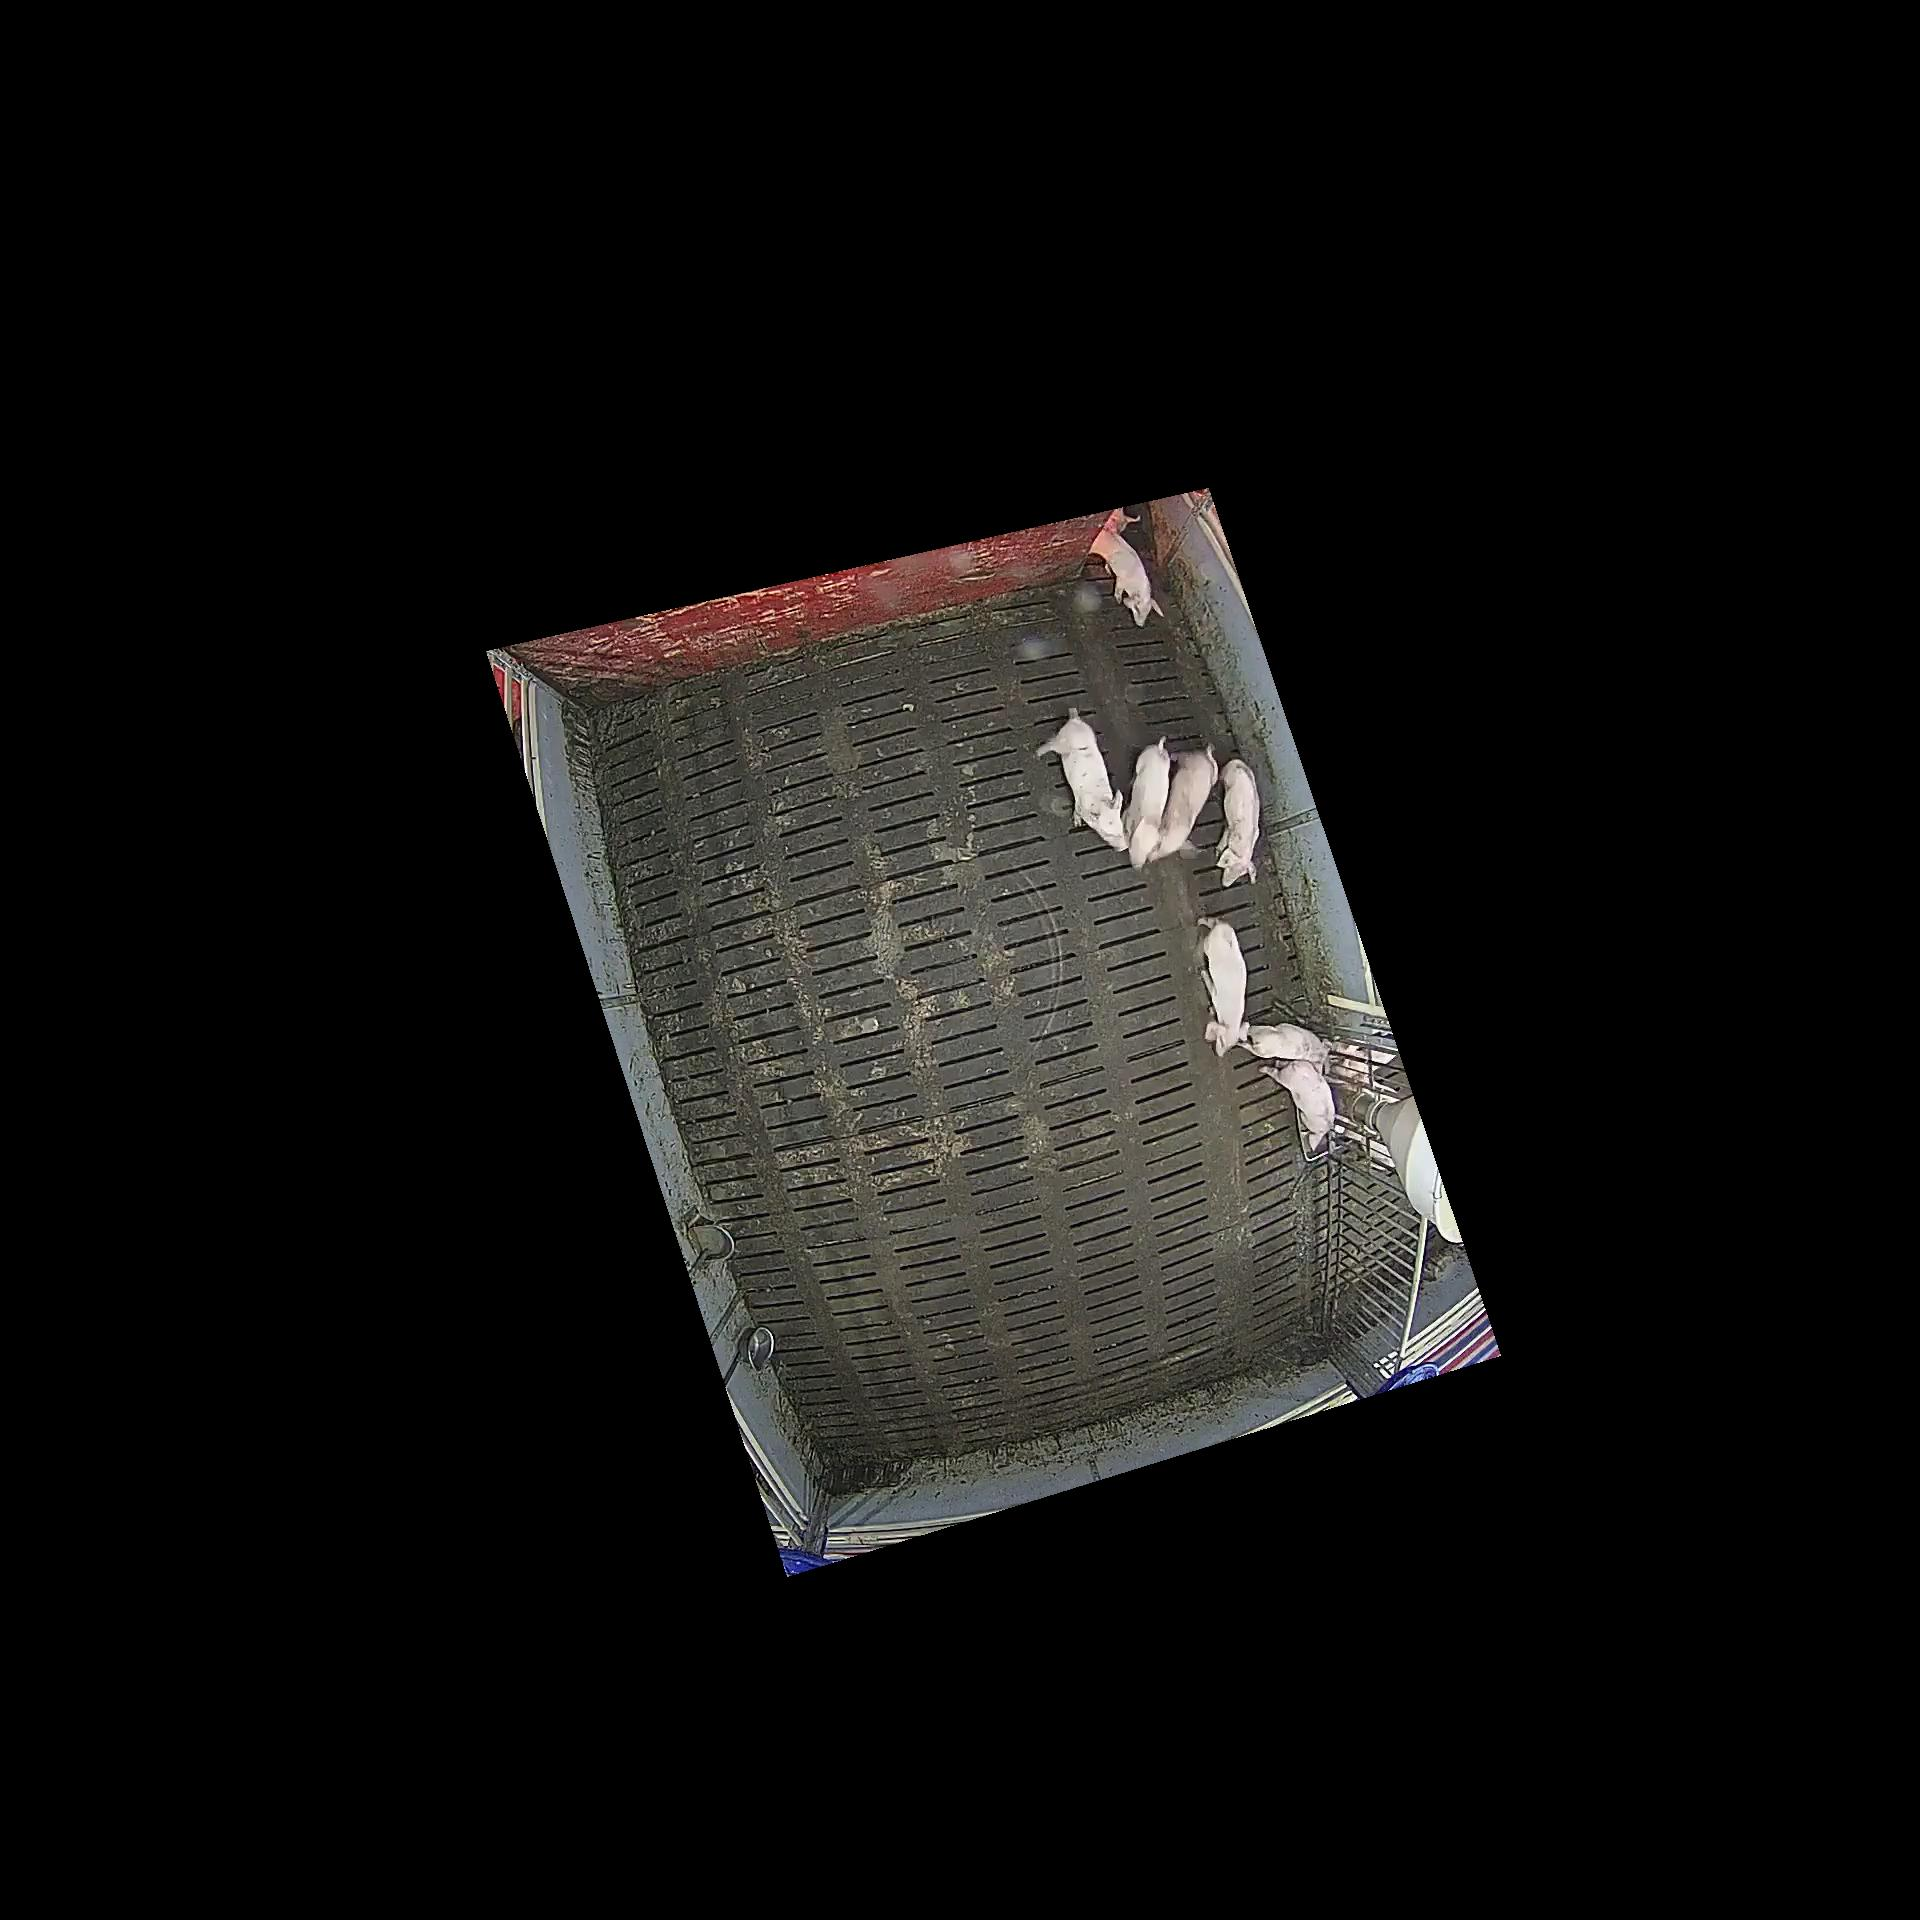pig: (1036, 709, 1129, 851), (1150, 744, 1218, 863), (1197, 916, 1250, 1058), (1092, 531, 1166, 628), (1259, 1062, 1335, 1153), (1125, 735, 1169, 874), (1215, 758, 1261, 890), (1240, 1022, 1336, 1064)
